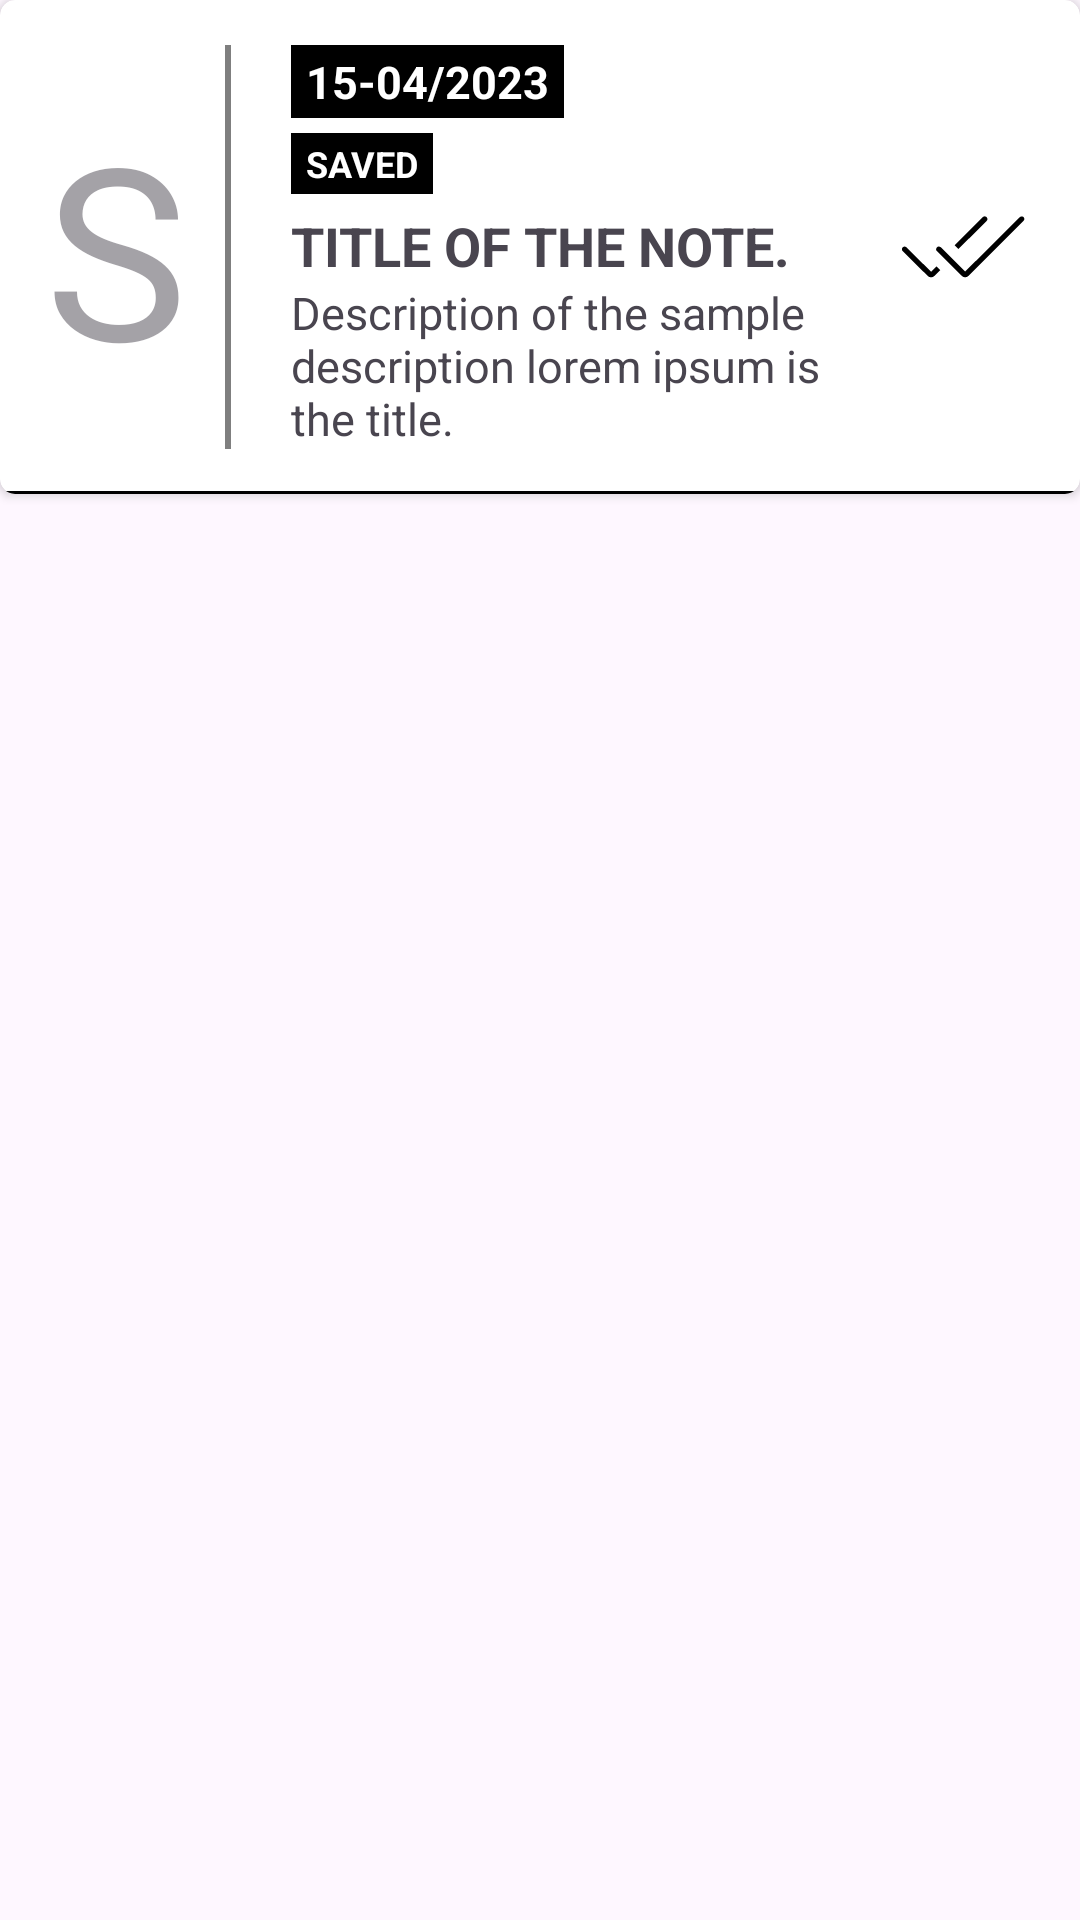

Point at icon controls on the screen. Image size 1080w x 1920h, points as (x=x, y=y).
done all: (x=963, y=247)
